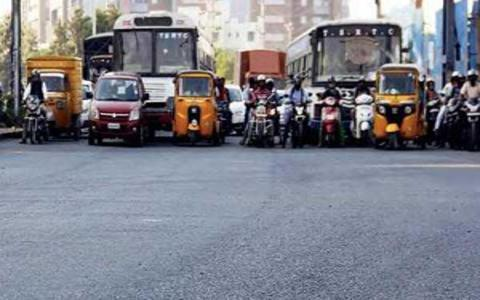Proper road: (36, 155, 441, 285)
